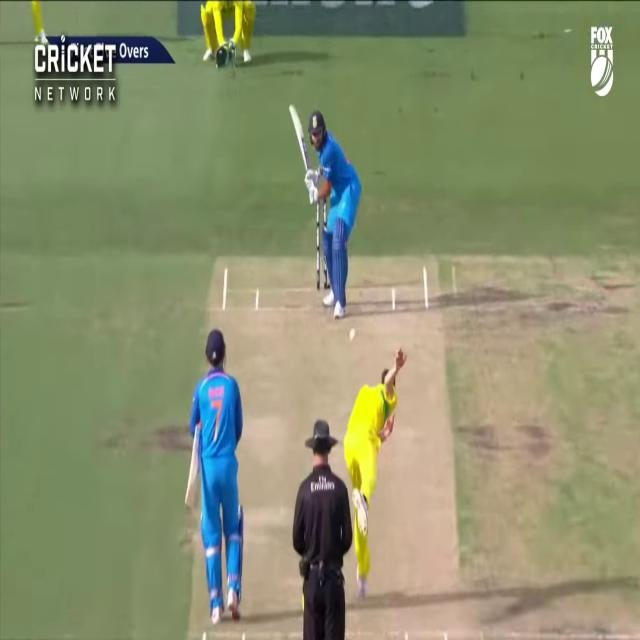ball: (350, 326, 355, 342)
stump: (317, 196, 328, 292), (322, 248, 327, 289)
